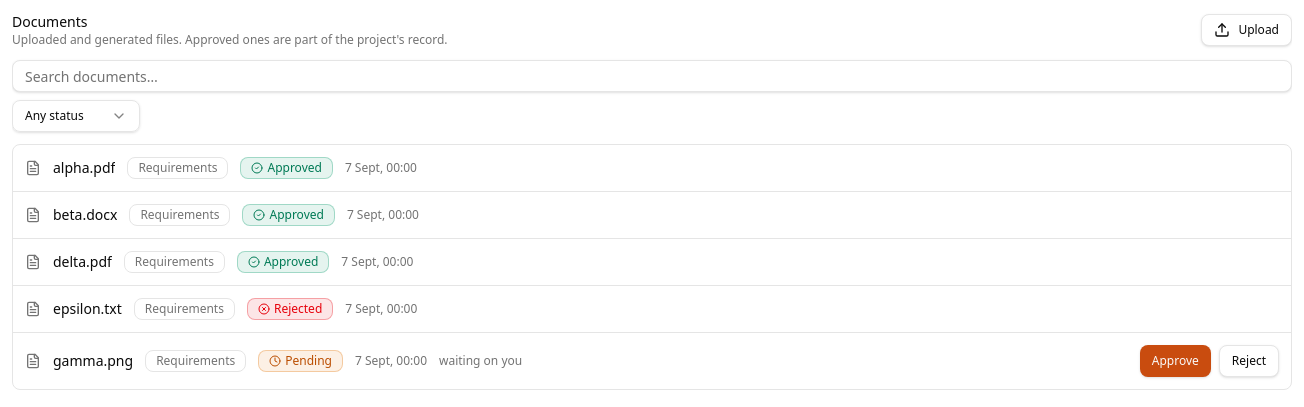
Test: the documents panel › narrows the list to what was typed
Type "delta" into the field labelled "Search documents" at (652, 76), box [12,60,1292,92]
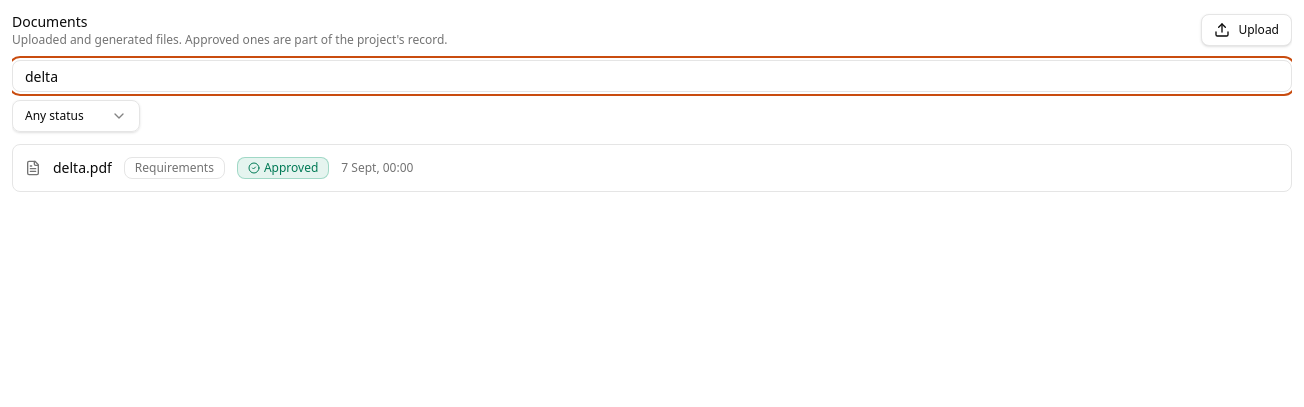
Check: the text "delta.pdf" is shown, box [53,158,112,178]
Check: the text "alpha.pdf" is gone
